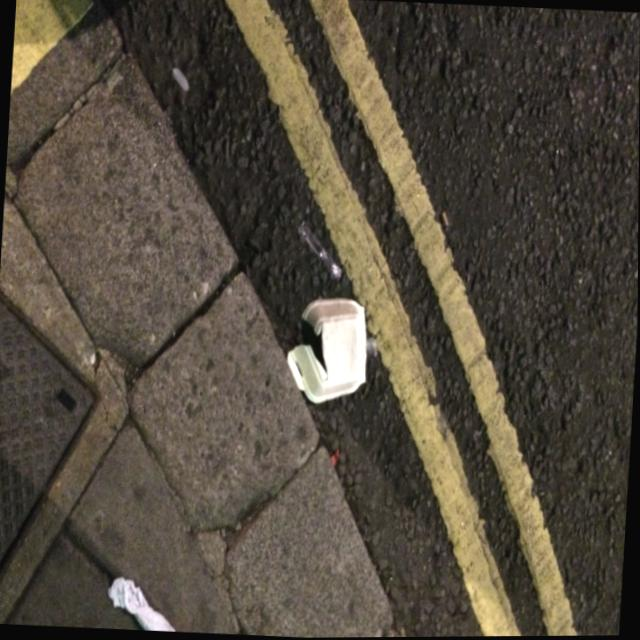Paper: (102, 571, 187, 633)
Plastic: (277, 276, 382, 423)
